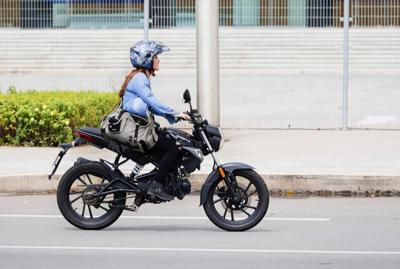With Helmet: (126, 34, 171, 73)
